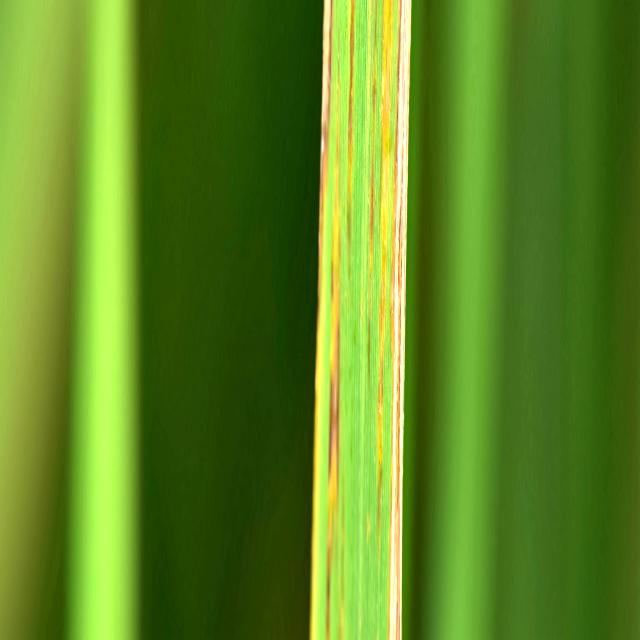BLS: (389, 0, 412, 638), (309, 0, 332, 638), (326, 26, 341, 638), (378, 0, 393, 579), (367, 0, 377, 398), (347, 0, 357, 293), (367, 0, 372, 134)
